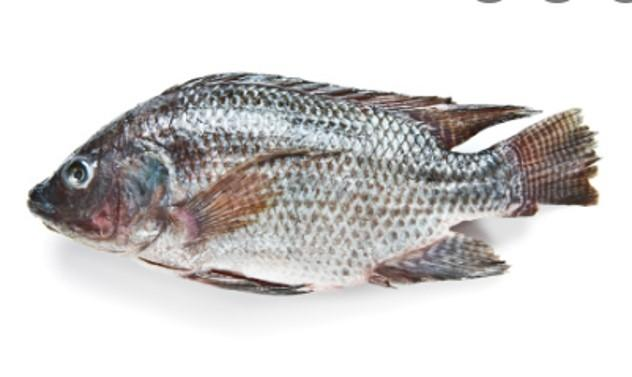Tilapia: (29, 71, 599, 295)
